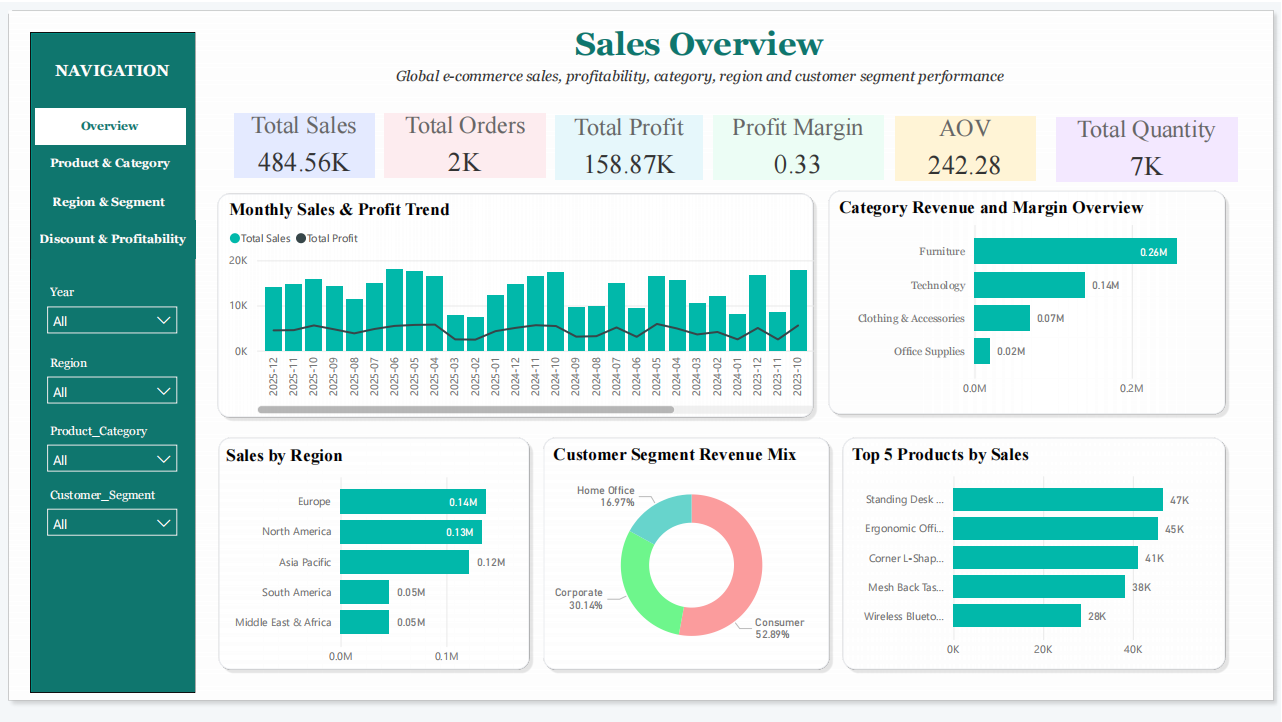

What the dashboard file says about the page in this screenshot:
{"tool":"powerbi","page":{"name":"Overview","canvas":[1280,720],"ordinal":0},"visuals":[{"type":"shape","box":[0,0,1280,706],"z":0},{"type":"shape","box":[30,30,165,660],"z":1000},{"type":"textbox","box":[46.2,53.8,132.5,28.8],"z":2000},{"type":"actionButton","box":[35,106,150,36],"z":3000},{"type":"actionButton","box":[35,143,150,36],"z":4000},{"type":"actionButton","box":[34,182,150,36],"z":5000},{"type":"actionButton","box":[30.8,217.5,164.2,38.3],"z":6000},{"type":"slicer","fields":{"Values":["Date Table.Year"]},"box":[36.7,277.8,150,57.8],"z":8000},{"type":"slicer","fields":{"Values":["Sales.Region"]},"box":[36.7,347.8,150,57.8],"z":9000},{"type":"slicer","fields":{"Values":["Sales.Product_Category"]},"box":[36.7,415.8,150,55],"z":10000},{"type":"slicer","fields":{"Values":["Sales.Customer_Segment"]},"box":[36.7,480,150,61.7],"z":11000},{"type":"textbox","box":[516,0,366,78],"z":12000},{"type":"textbox","box":[373.8,58.8,650,37.5],"z":13000},{"type":"cardVisual","fields":{"Data":["Date Table.Total Sales"]},"box":[228.9,105.6,150,74.4],"z":14000},{"type":"cardVisual","fields":{"Data":["Date Table.Total Orders"]},"box":[378.9,105.6,171.1,74.4],"z":15000},{"type":"cardVisual","fields":{"Data":["Date Table.Total Profit"]},"box":[550,107.8,156.7,74.4],"z":16000},{"type":"cardVisual","fields":{"Data":["Date Table.Profit Margin"]},"box":[706.7,107.8,180,74.4],"z":17000},{"type":"cardVisual","fields":{"Data":["Date Table.AOV"]},"box":[888.9,108.9,150,74.4],"z":18000},{"type":"cardVisual","fields":{"Data":["Date Table.Total Quantity"]},"box":[1050,110,191.1,74.4],"z":19000},{"type":"shape","box":[212.2,185.6,605.7,234.3],"z":20000},{"type":"shape","box":[821.7,183.3,407,234],"z":21000,"group":"g5"},{"type":"group","id":"g1","title":"Group 2","box":[213.3,428.9,321.1,242.2],"z":21000},{"type":"group","id":"g2","title":"Group 3","box":[536.7,428.9,297.8,242.2],"z":22000},{"type":"shape","box":[835.6,428.9,393.3,243.3],"z":22000,"group":"g3"},{"type":"shape","box":[213.3,428.9,321.2,242.5],"z":23000,"group":"g1"},{"type":"group","id":"g3","title":"Group 4","box":[835.6,428.9,393.3,243.3],"z":23000},{"type":"group","id":"g4","title":"Group 5","box":[821.7,183.3,406.7,235],"z":24000},{"type":"shape","box":[536.7,428.9,297.3,242.7],"z":24000,"group":"g2"},{"type":"lineClusteredColumnComboChart","title":"Monthly Sales & Profit Trend","fields":{"Category":["Date Table.Year Month"],"Y":["Date Table.Total Sales"],"Y2":["Date Table.Total Profit"]},"box":[223.7,198.4,594.3,217.1],"z":25000},{"type":"clusteredBarChart","title":"Category Revenue and Margin Overview","fields":{"Category":["Sales.Product_Category"],"Y":["Date Table.Total Sales"]},"box":[833.1,196.1,393.3,206.7],"z":26000,"group":"g5"},{"type":"clusteredBarChart","title":"Top 5 Products by Sales","fields":{"Y":["Date Table.Total Sales"],"Category":["Sales.Product_Name"]},"box":[845.6,442.2,371.7,221.7],"z":27000,"group":"g3"},{"type":"clusteredBarChart","title":"Sales by Region","fields":{"Category":["Sales.Region"],"Y":["Date Table.Total Sales"]},"box":[221.7,442.7,312.9,228.6],"z":28000,"group":"g1"},{"type":"donutChart","title":"Customer Segment Revenue Mix","fields":{"Y":["Date Table.Total Sales"],"Category":["Sales.Customer_Segment"]},"box":[547.9,442.2,285,221.2],"z":29000,"group":"g2"},{"type":"group","id":"g5","title":"Group 6","box":[821.7,183.3,406.7,234.4],"z":29006,"group":"g4"}]}

Visuals, with their boxes in screenshot pixels (x1, y1, x2, y2), scaled from the page's 1280x720 canvas onto the 1282x722 screenshot:
shape: 0/0/1281/708
shape: 30/30/195/692
textbox: 46/54/179/83
actionButton: 35/106/185/142
actionButton: 35/143/185/179
actionButton: 34/183/184/219
actionButton: 31/218/195/257
slicer - Date Table.Year: 37/279/187/337
slicer - Sales.Region: 37/349/187/407
slicer - Sales.Product_Category: 37/417/187/472
slicer - Sales.Customer_Segment: 37/481/187/543
textbox: 517/0/883/78
textbox: 374/59/1025/97
cardVisual - Date Table.Total Sales: 229/106/379/180
cardVisual - Date Table.Total Orders: 379/106/551/180
cardVisual - Date Table.Total Profit: 551/108/708/183
cardVisual - Date Table.Profit Margin: 708/108/888/183
cardVisual - Date Table.AOV: 890/109/1041/184
cardVisual - Date Table.Total Quantity: 1052/110/1243/185
shape: 213/186/819/421
shape: 823/184/1231/418
"Group 2" group: 214/430/535/673
"Group 3" group: 538/430/836/673
shape: 837/430/1231/674
shape: 214/430/535/673
"Group 4" group: 837/430/1231/674
"Group 5" group: 823/184/1230/419
shape: 538/430/835/673
"Monthly Sales & Profit Trend" lineClusteredColumnComboChart: 224/199/819/417
"Category Revenue and Margin Overview" clusteredBarChart: 834/197/1228/404
"Top 5 Products by Sales" clusteredBarChart: 847/443/1219/666
"Sales by Region" clusteredBarChart: 222/444/535/673
"Customer Segment Revenue Mix" donutChart: 549/443/834/665
"Group 6" group: 823/184/1230/419
